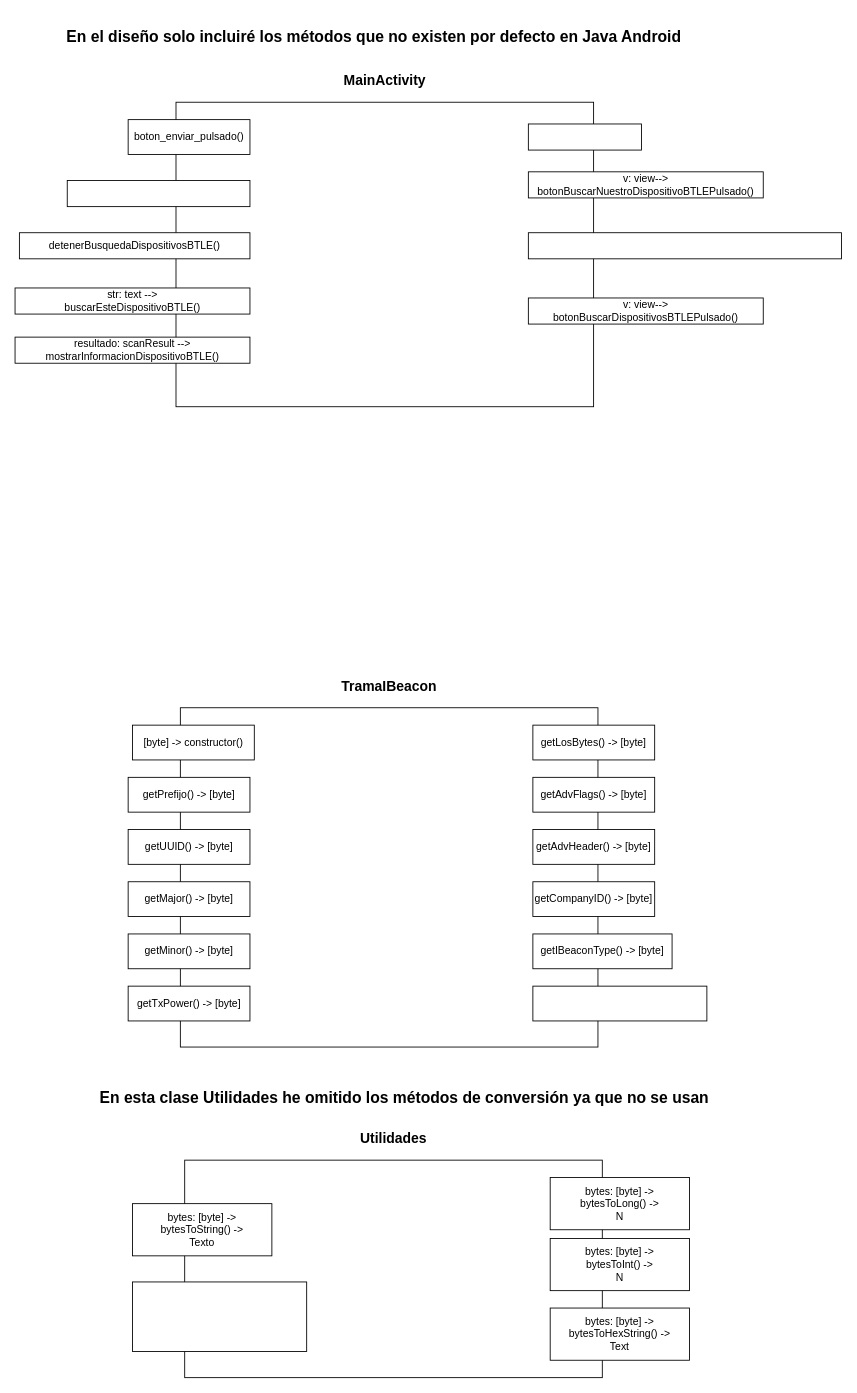
This 857x1393 diagram has some shape labels left out. The shapes that lost their labels are listed below. From the top down, each one's box as (x1, y1, x2, y2) in pixels, then its label:
(527, 123, 641, 150): inicializarBluetooth()
(66, 180, 250, 207): buscarTodosLosDispositivosBTLE()
(527, 232, 842, 259): v: view--> botonDetenerBusquedaDispositivosBTLEPulsado()
(532, 985, 707, 1021): getAdgetIBeaconLengthvFlags() -> [byte]
(132, 1281, 307, 1352): masSignificativos:N, manosSignificativos: N -> bytesToString() -> [byte]
